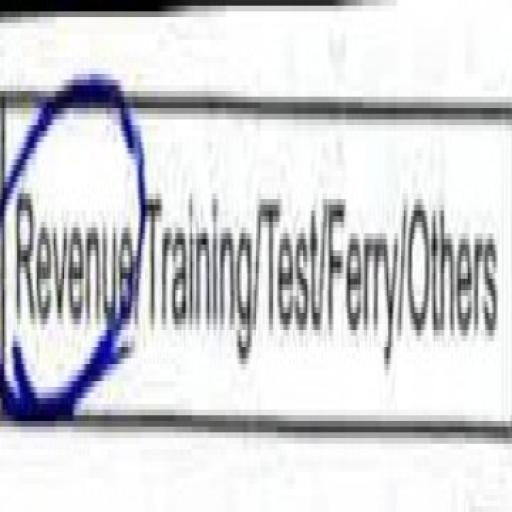check: (0, 10, 142, 476)
